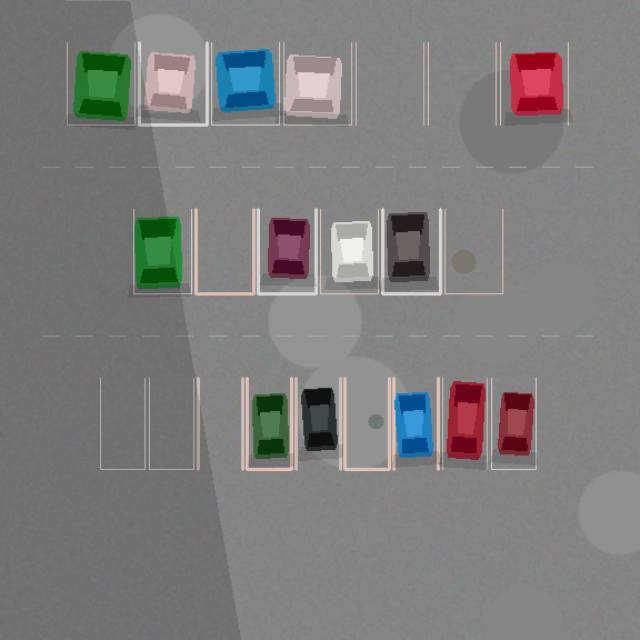space-empty: (428, 42, 496, 124), (356, 42, 423, 124), (444, 209, 502, 293), (196, 209, 253, 293), (344, 378, 389, 469), (100, 378, 144, 469), (149, 378, 193, 469), (198, 378, 242, 469)
space-occupied: (139, 42, 207, 124), (211, 42, 279, 124), (283, 42, 351, 124), (500, 42, 568, 124), (67, 42, 134, 124), (133, 209, 191, 293), (258, 209, 316, 293), (320, 209, 378, 293), (382, 209, 440, 293), (393, 378, 438, 469), (442, 378, 487, 469), (491, 378, 536, 469), (247, 378, 291, 469), (296, 378, 340, 469)
